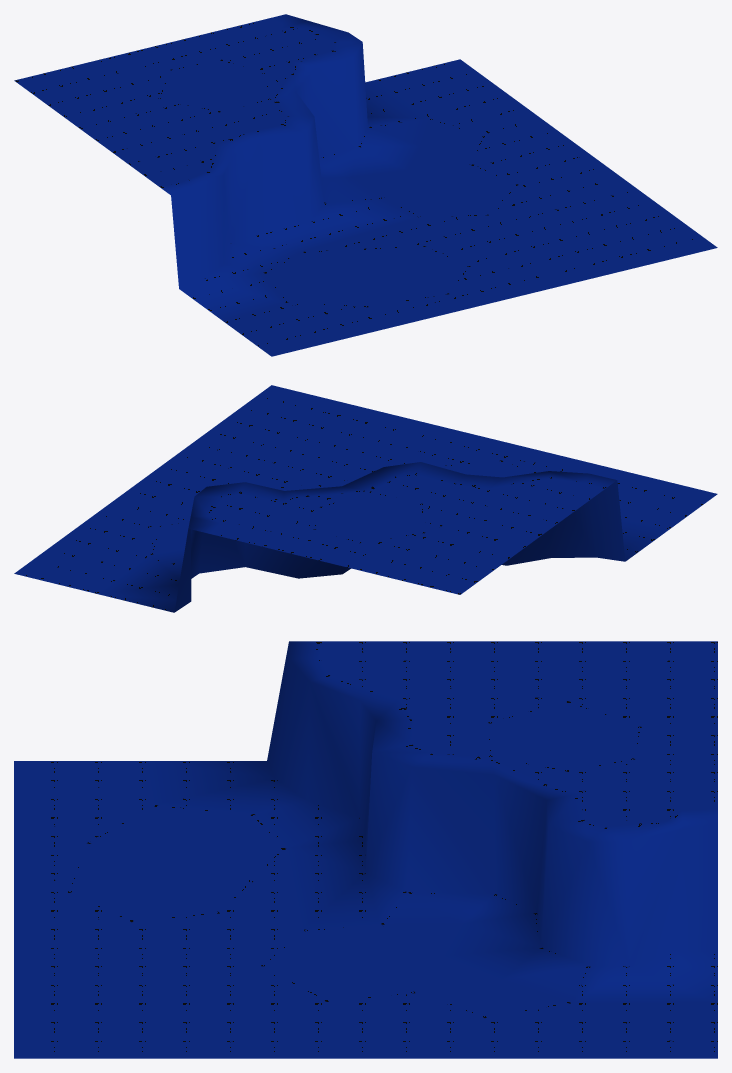
The model's file is GRD_S_C2_2.fbx.
The picture shows the model from 3 angles, top to bottom: view 1: azimuth 30°, elevation 25°; view 2: azimuth 150°, elevation 25°; view 3: azimuth 270°, elevation 25°; orthographic projection. The views are drawn at different scales.
Parts seen in each view (by area): view 1: material_00012000, material_C0032000, material_00022000; view 2: material_00012000, material_00022000, material_C0032000; view 3: material_00012000, material_00022000, material_C0032000.
Boxes of the visible parts, x1,y1,x2,y2 form: material_00012000: (14, 19, 717, 356); material_C0032000: (158, 59, 518, 307); material_00022000: (159, 14, 367, 288); material_00012000: (14, 385, 717, 612); material_00022000: (174, 462, 625, 612); material_C0032000: (150, 460, 536, 566); material_00012000: (14, 641, 717, 1058); material_00022000: (267, 641, 717, 966); material_C0032000: (67, 700, 641, 1018).
Size of the model in its own units: 12800 by 2400 by 12800.
